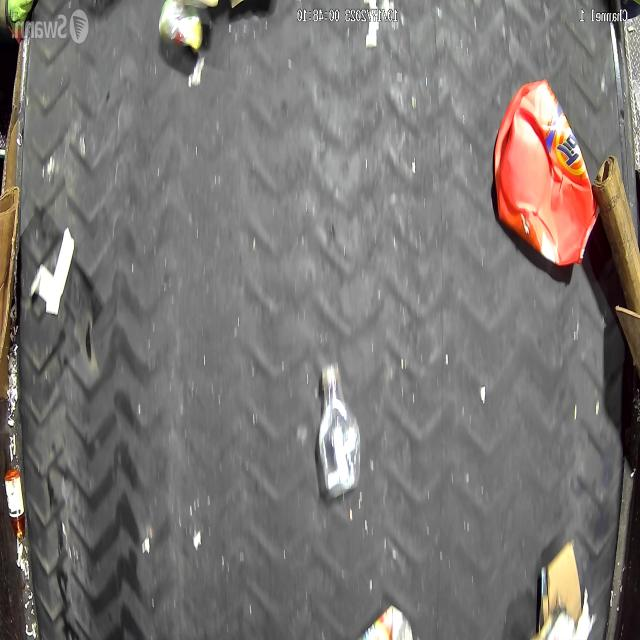non_white_jug: (493, 74, 597, 269)
plastic_bottle: (315, 360, 362, 500)
